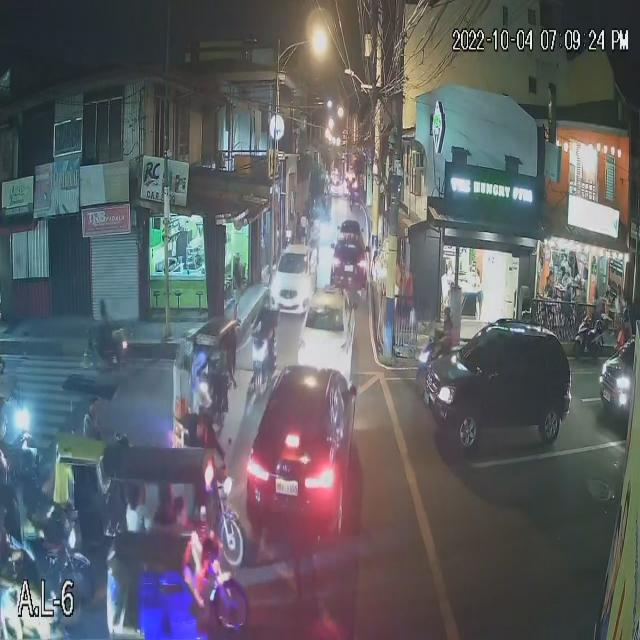motorcycle: (246, 334, 281, 394), (571, 320, 612, 359), (412, 329, 443, 376)
rider: (255, 307, 279, 342), (441, 319, 454, 352)
